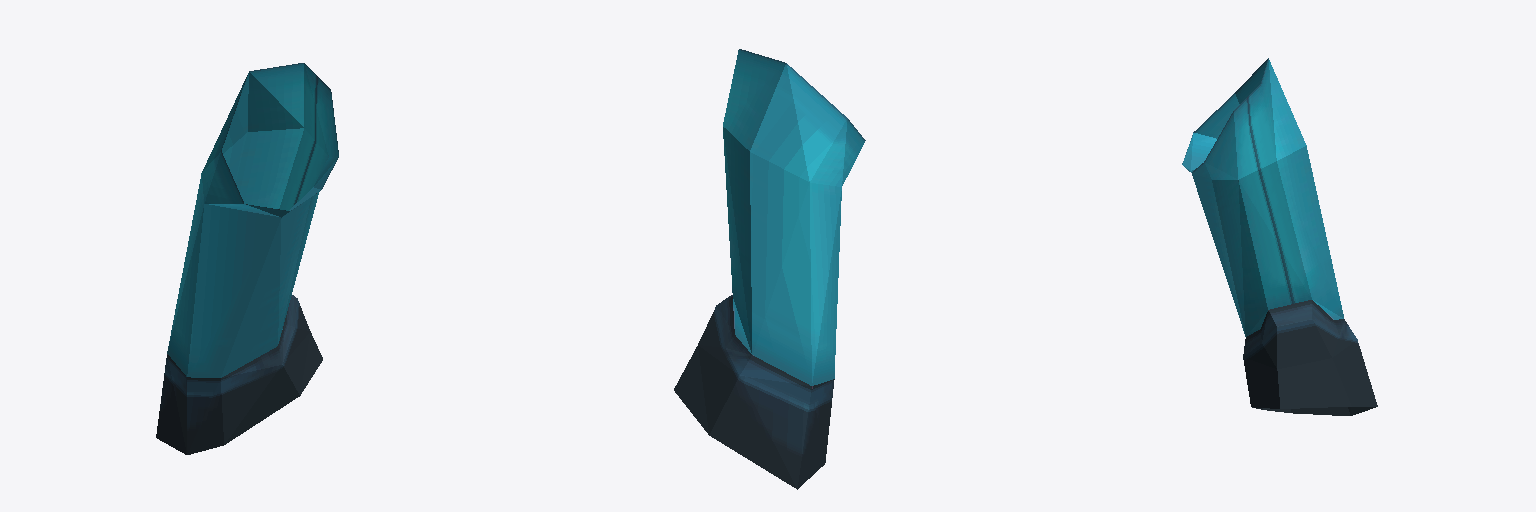
The picture shows the model from 3 angles: view 1: azimuth 30°, elevation 25°; view 2: azimuth 150°, elevation 25°; view 3: azimuth 270°, elevation 25°; orthographic projection.
Visible parts, largest first — view 1: Pierna_izquierda020, Pierna_izquierda018, Pierna_izquierda019; view 2: Pierna_izquierda020, Pierna_izquierda018, Pierna_izquierda019; view 3: Pierna_izquierda020, Pierna_izquierda018, Pierna_izquierda019.
Boxes of the visible parts, box(x1,y1,x2,y2) form: Pierna_izquierda020: box(167, 63, 338, 377); Pierna_izquierda018: box(156, 295, 310, 454); Pierna_izquierda019: box(300, 332, 322, 395); Pierna_izquierda020: box(723, 49, 865, 385); Pierna_izquierda018: box(698, 295, 834, 489); Pierna_izquierda019: box(674, 346, 708, 434); Pierna_izquierda020: box(1182, 58, 1343, 336); Pierna_izquierda018: box(1243, 300, 1377, 415); Pierna_izquierda019: box(1252, 358, 1377, 408).
Bounding box in the file's own units: 0.9392 × 2.54 × 1.18.
1 materials, 1 textured.